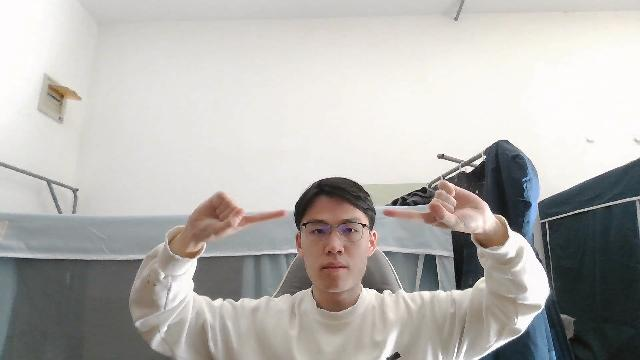one: (379, 178, 494, 241), (177, 190, 289, 246)
